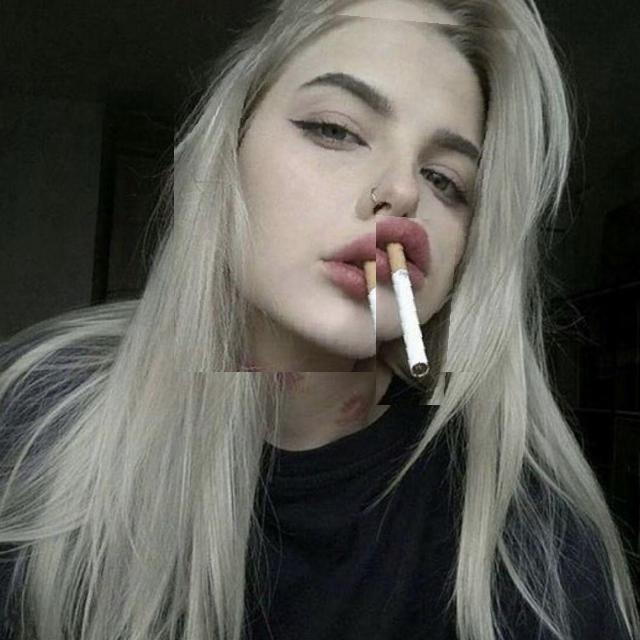cigarette: (376, 215, 458, 405)
